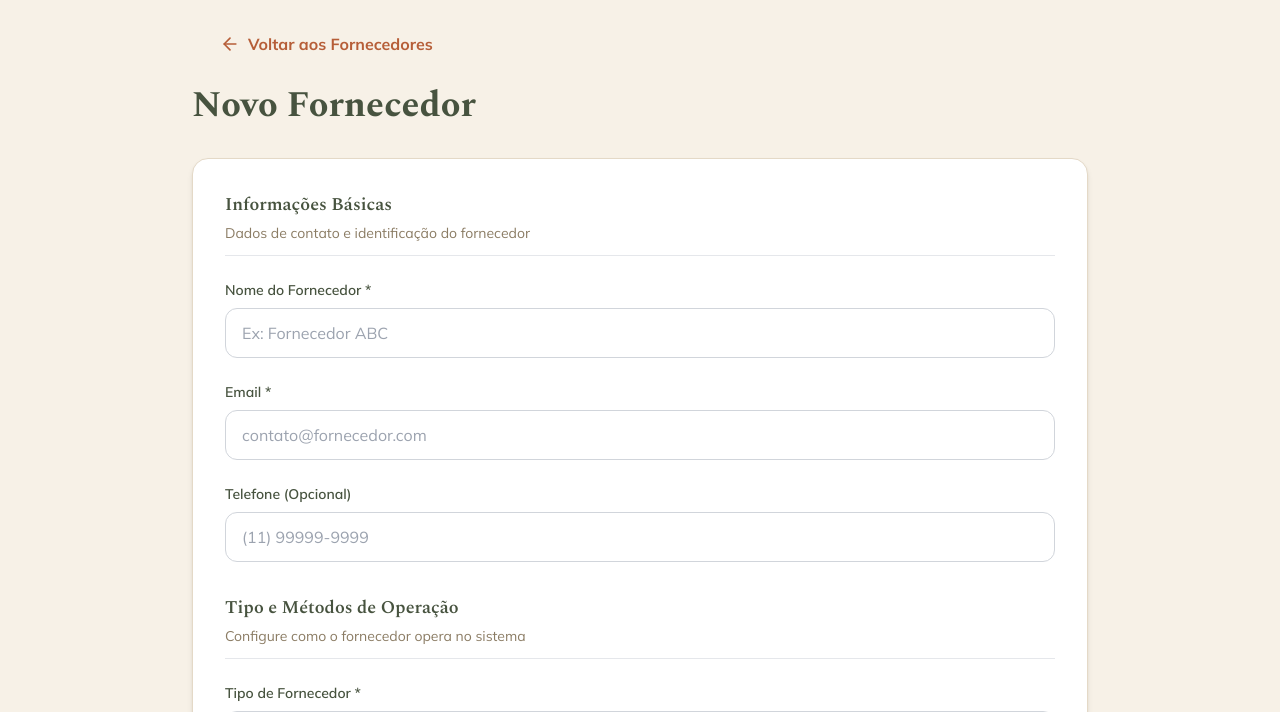
Test: SupplierEditor › Submissão do Formulário › deve mostrar mensagem de sucesso após criar fornecedor
In the field labelled "Nome do Fornecedor *": (640, 333) [225, 308, 1055, 358], type "Fornecedor ABC"
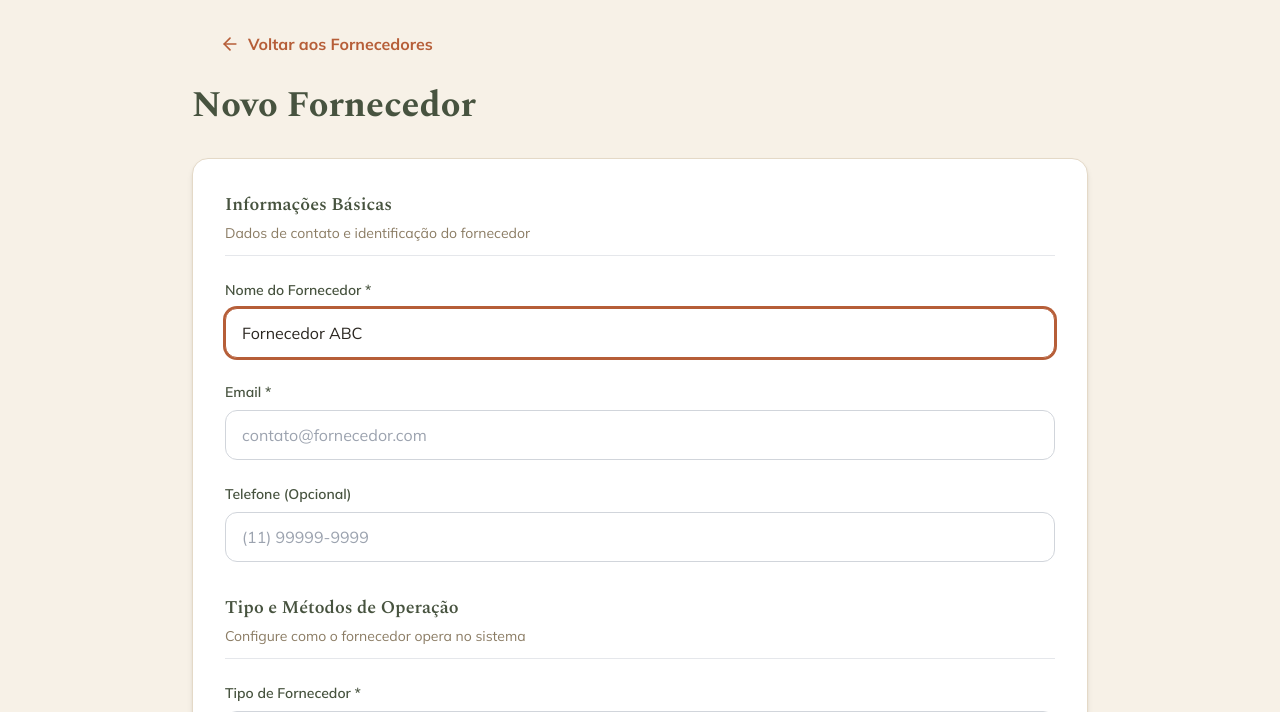
In the field labelled "Email *": (640, 435) [225, 410, 1055, 460], type "contato@abc.com"
(page scrolled)
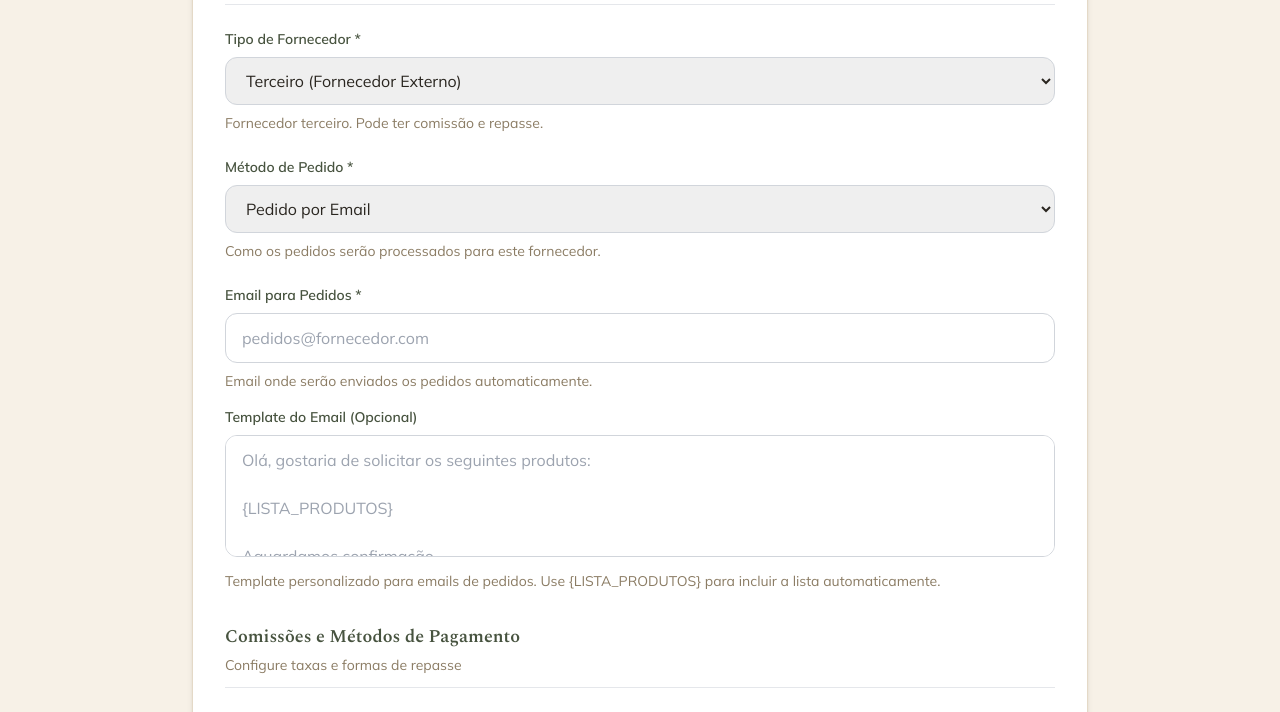
In the field labelled "Email para Pedidos *": (640, 338) [225, 313, 1055, 363], type "pedidos@abc.com"
(page scrolled)
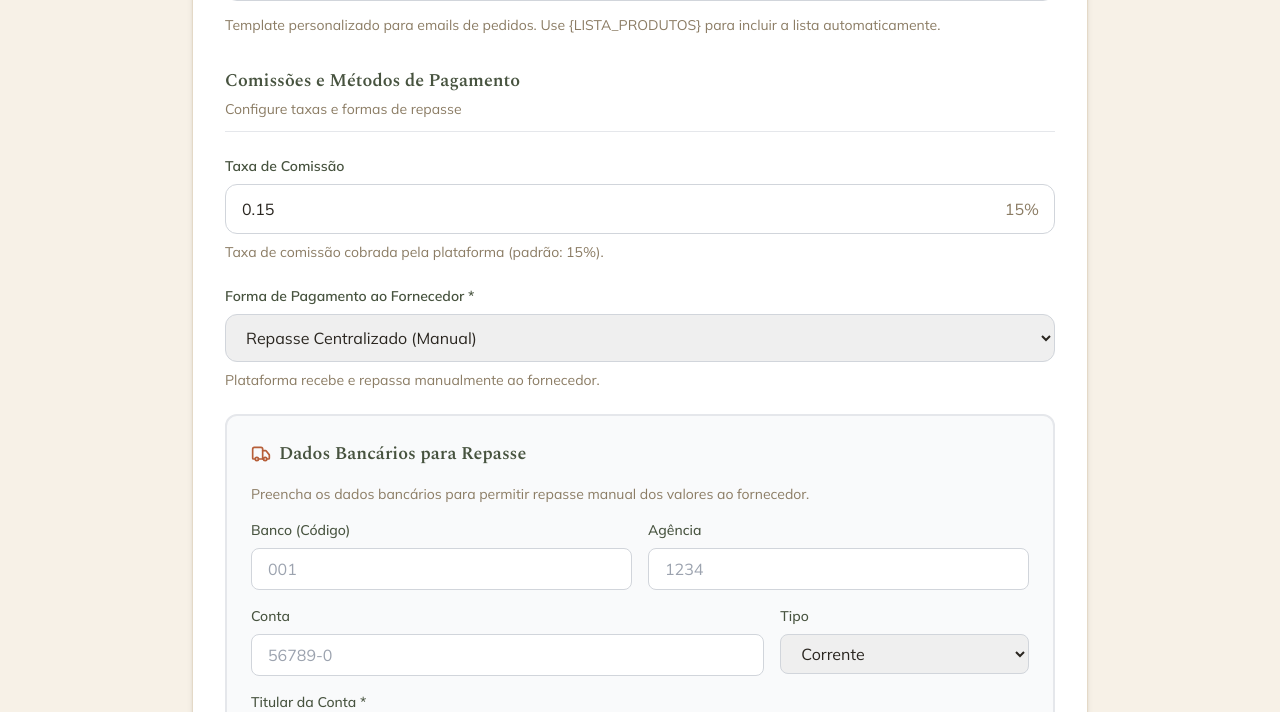
# Selecionar pagamento 'none' para evitar a exigência de dados bancários
Select "Sem Repasse" in the dropdown labelled "Forma de Pagamento ao Fornecedor *": (640, 338) [225, 314, 1055, 362]
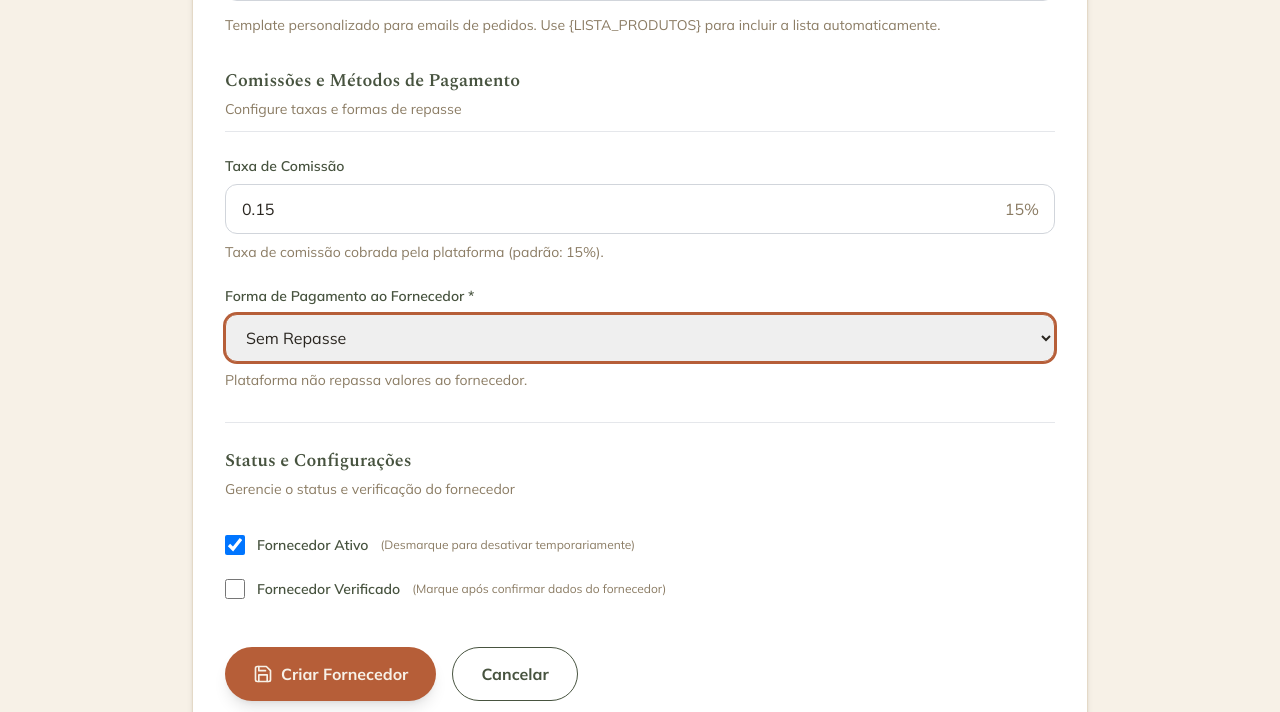
Click the button "Criar Fornecedor": (331, 674) [225, 647, 436, 701]
(page scrolled)
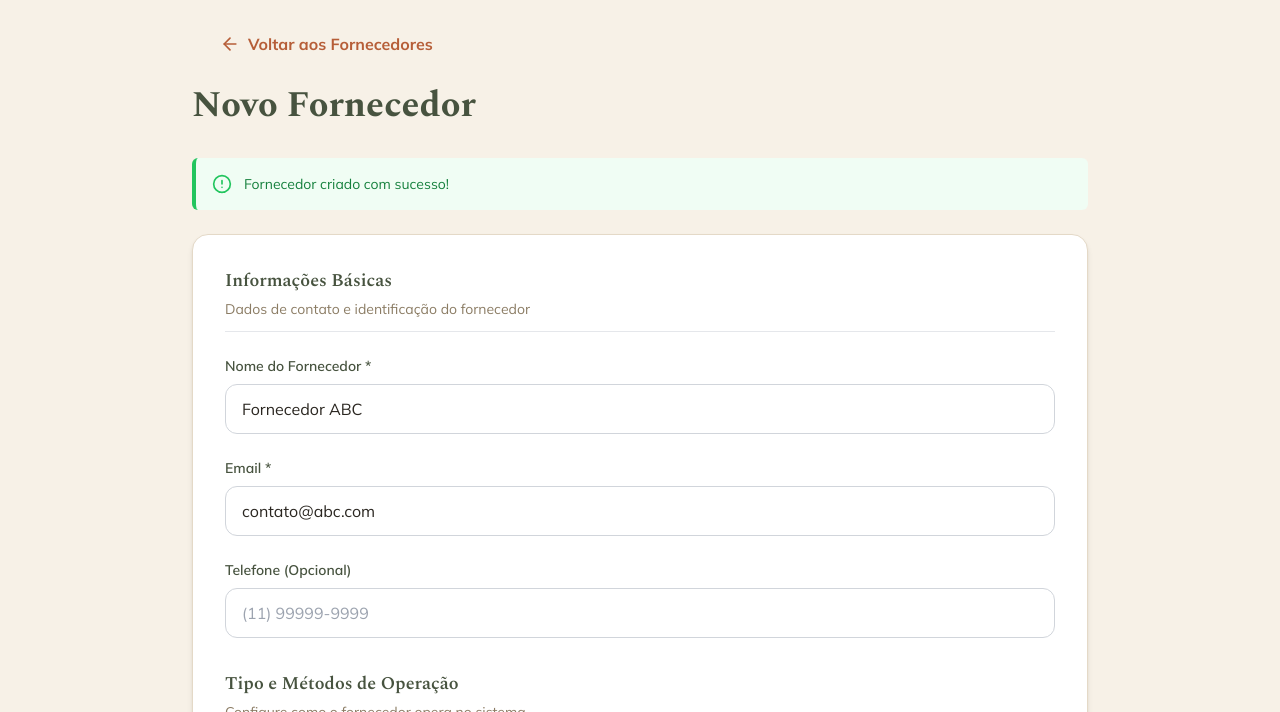
Now the text "Fornecedor criado com sucesso!" is shown, box [244, 174, 449, 194]
